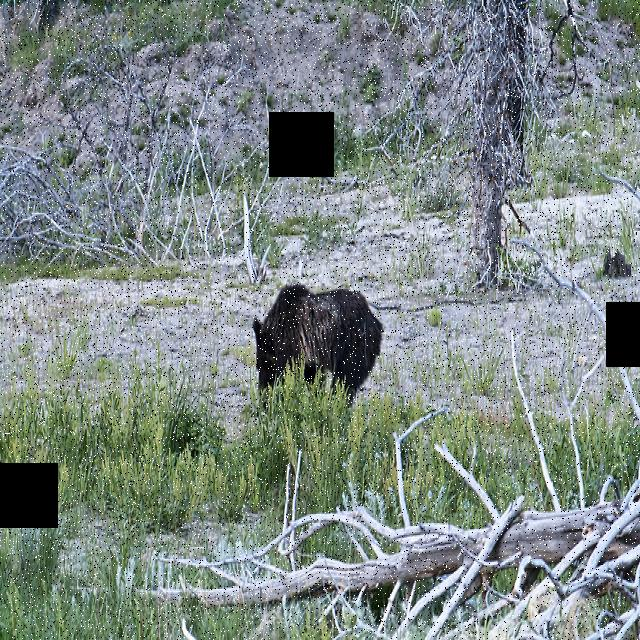Bear: (247, 275, 380, 404)
